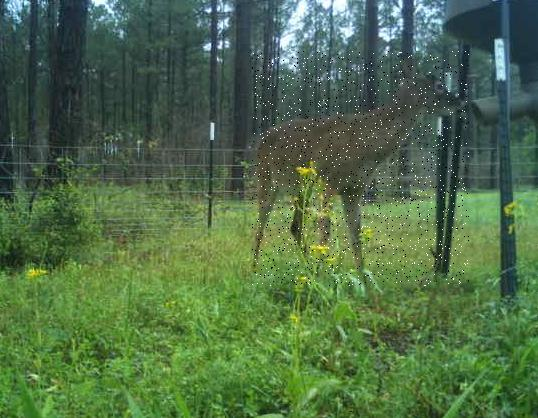Deer: (252, 52, 469, 287)
